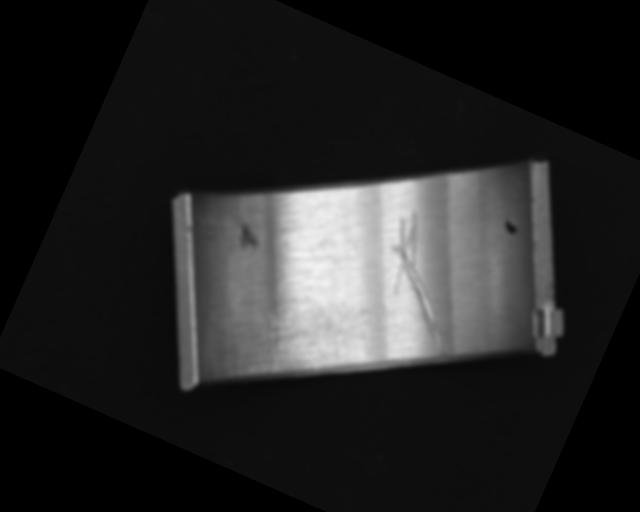blot: (501, 217, 521, 237)
bruise: (232, 222, 263, 253)
nick: (353, 203, 494, 358)
scratch: (231, 285, 360, 410)
